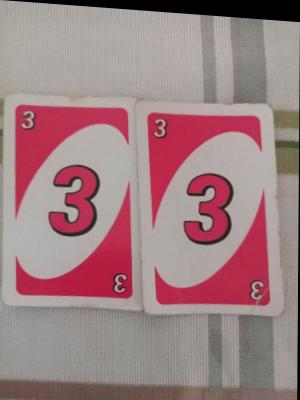num_3: (244, 269, 272, 303), (18, 106, 41, 133)
